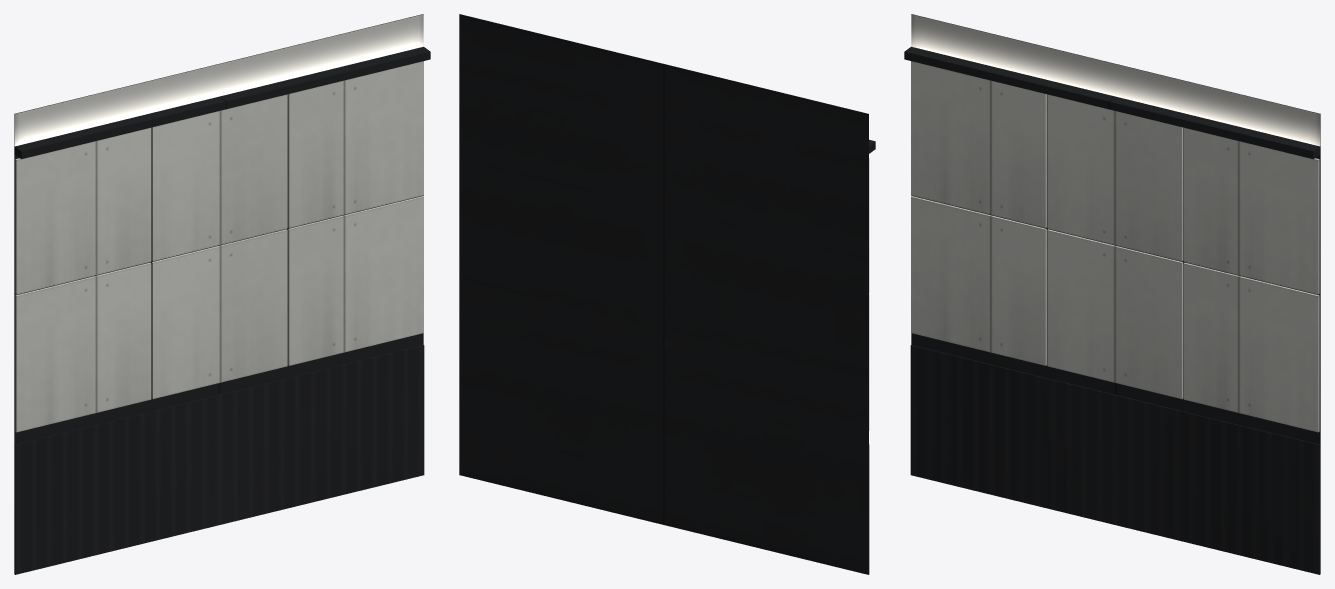
The model's file is SM_LFD_CorridorPanel.fbx.
3 views of the same model, side by side, from view 1: azimuth 30°, elevation 25°; view 2: azimuth 150°, elevation 25°; view 3: azimuth 330°, elevation 25° (orthographic).
Parts seen in each view (by area): view 1: SM_LFD_CorridorPanel_LOD0; view 2: SM_LFD_CorridorPanel_LOD0; view 3: SM_LFD_CorridorPanel_LOD0.
Part boxes in pixels (x1,y1,x2,y2): SM_LFD_CorridorPanel_LOD0: (14, 14, 430, 574); SM_LFD_CorridorPanel_LOD0: (459, 14, 875, 574); SM_LFD_CorridorPanel_LOD0: (904, 14, 1320, 574).
Size of what is drawn, in the model's own units: 3.3 by 3.55 by 0.1.
